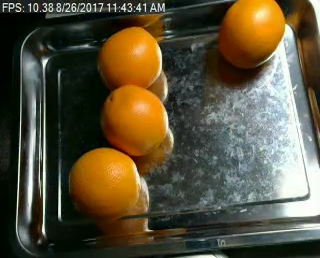Orange: (67, 147, 138, 217), (216, 1, 285, 69), (100, 84, 167, 154), (98, 25, 164, 90)
